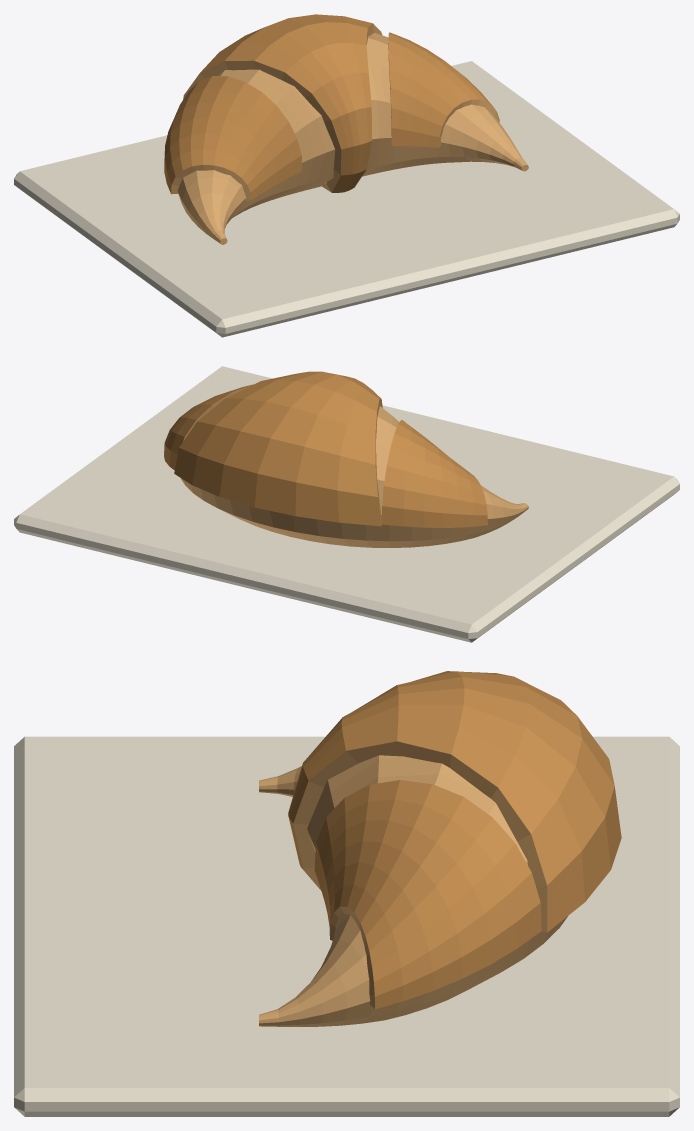
3 renders of one model, top to bottom at view 1: azimuth 30°, elevation 25°; view 2: azimuth 150°, elevation 25°; view 3: azimuth 270°, elevation 25°, orthographic. The views are drawn at different scales.
Parts seen in each view (by area): view 1: Serving plate, Continuous rolled croissant, Central broad wrap, Right tapered wrap, Left tapered wrap; view 2: Serving plate, Central broad wrap, Right tapered wrap, Continuous rolled croissant, Left tapered wrap; view 3: Serving plate, Central broad wrap, Left tapered wrap, Continuous rolled croissant.
Boxes of the visible parts, <box> form: Serving plate: <box>14,61,679,337</box>; Continuous rolled croissant: <box>177,33,528,244</box>; Central broad wrap: <box>183,14,382,192</box>; Right tapered wrap: <box>164,76,302,200</box>; Left tapered wrap: <box>388,32,499,147</box>; Serving plate: <box>14,366,679,642</box>; Central broad wrap: <box>174,371,382,526</box>; Right tapered wrap: <box>382,420,487,527</box>; Continuous rolled croissant: <box>180,406,528,547</box>; Left tapered wrap: <box>164,384,253,469</box>; Serving plate: <box>14,736,679,1116</box>; Central broad wrap: <box>288,671,621,932</box>; Left tapered wrap: <box>314,780,541,1009</box>; Continuous rolled croissant: <box>259,755,567,1026</box>.
Bounding box in the file's own units: 0.32 × 0.1035 × 0.25.
